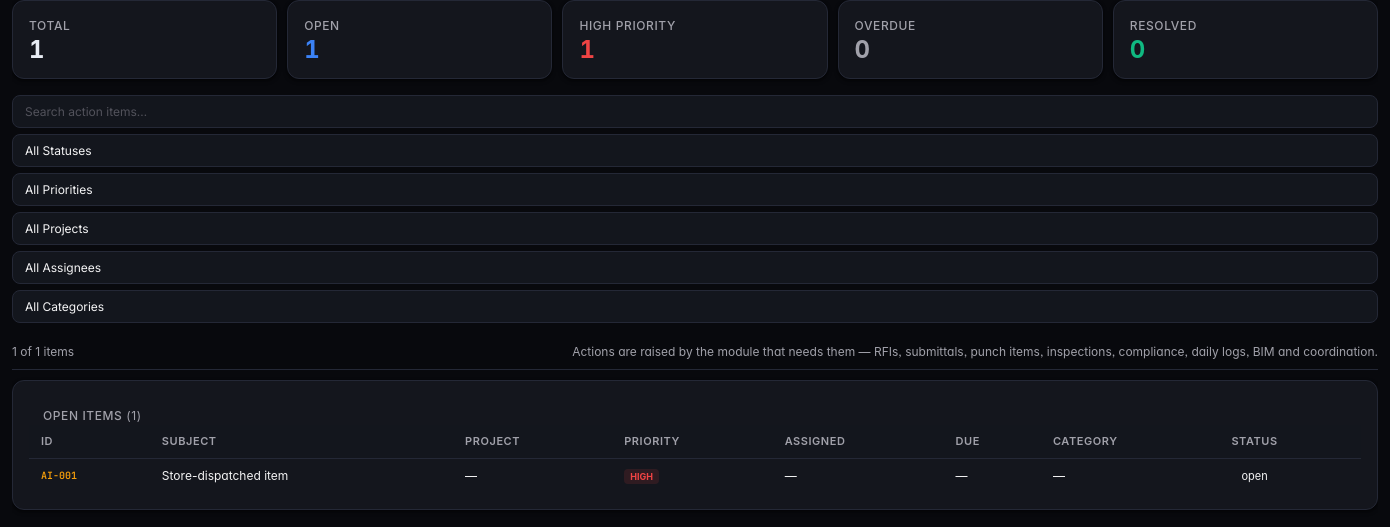
Test: the register drills through to the source module › offers nothing on a store row, which carries no source module
Click the text "Store-dispatched item": (225, 475) [150,458,453,493]
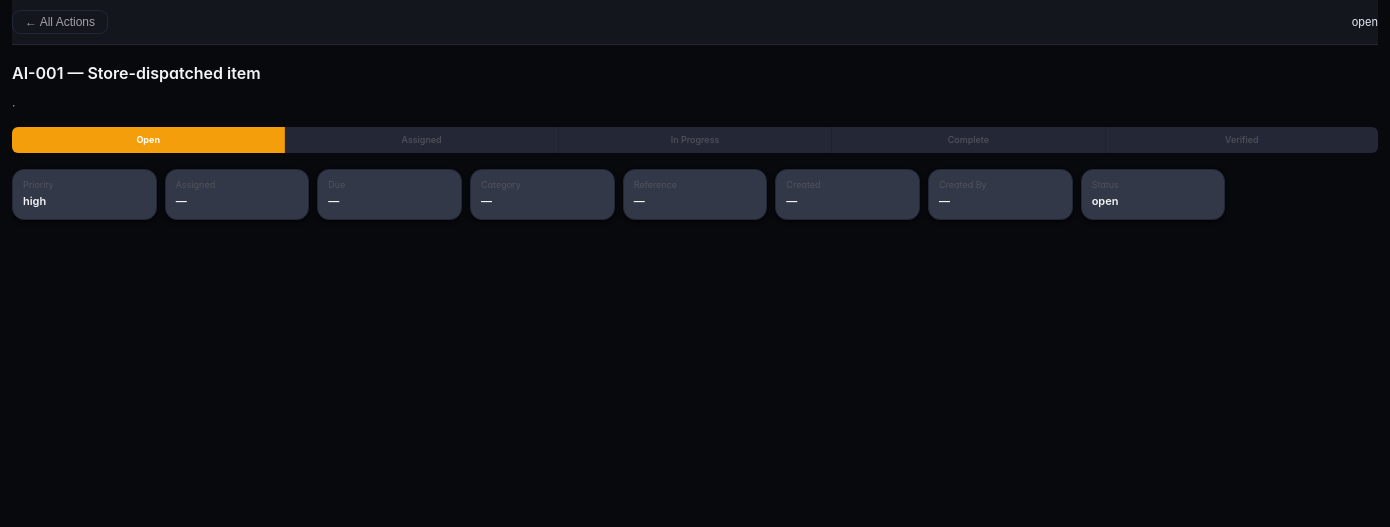
Check: the button "← All Actions" is shown, box [12,10,108,34]
